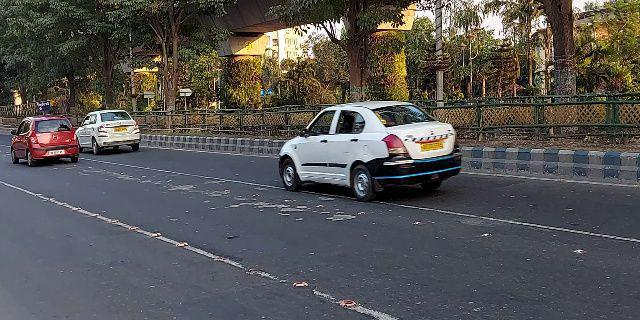Car: (276, 99, 465, 203), (10, 114, 79, 167), (72, 107, 145, 155)
